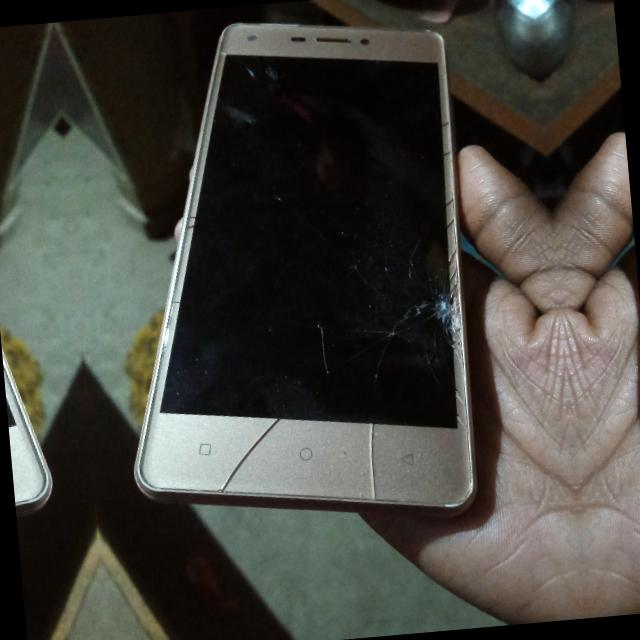phone_screen: (161, 56, 461, 428), (6, 403, 13, 426)
